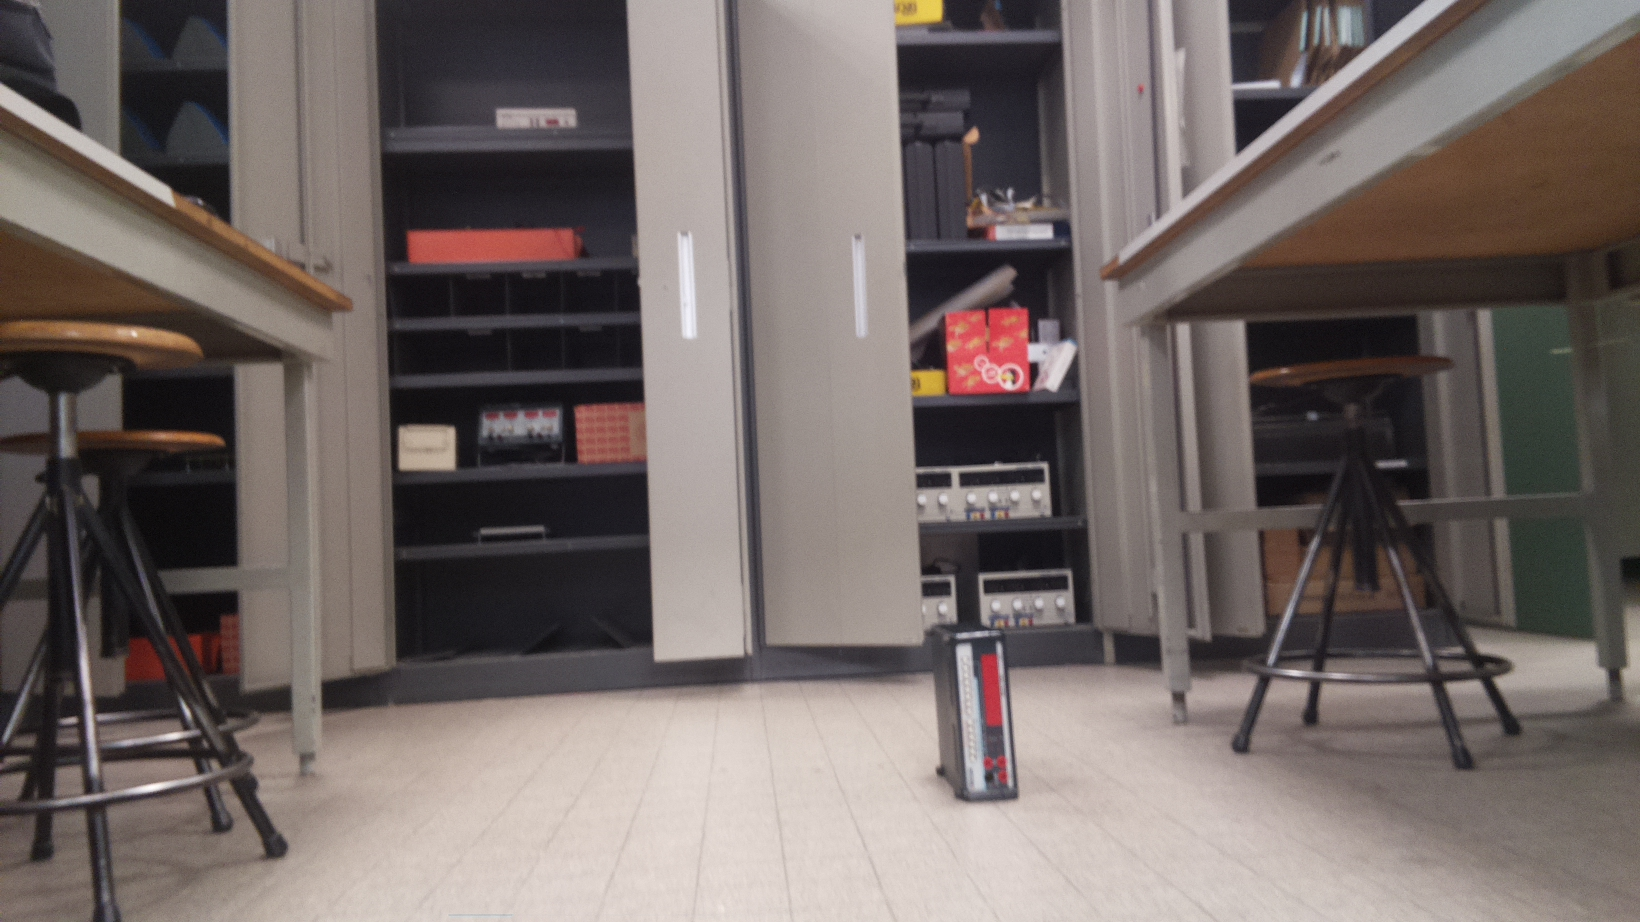medium: (927, 625, 1030, 811)
